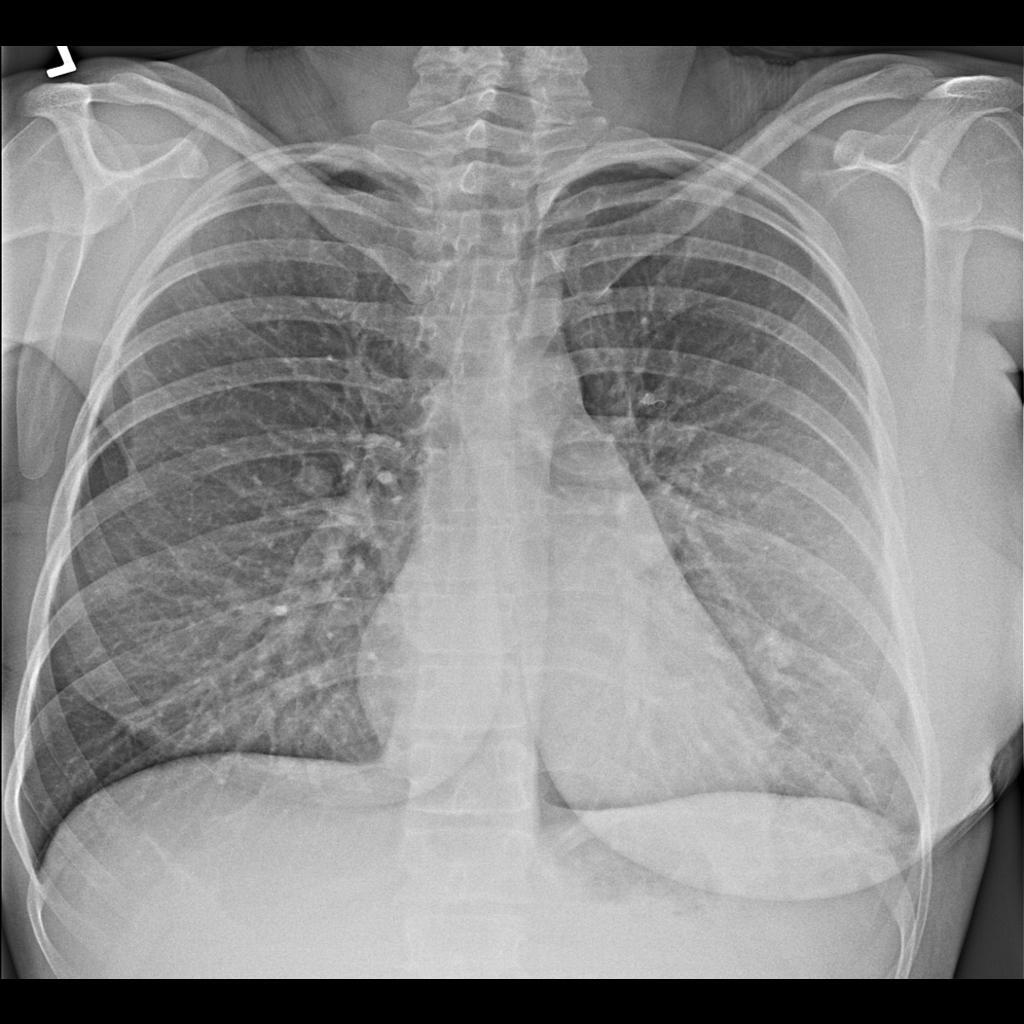Nodule: (739, 617, 801, 678), (288, 459, 347, 511)
